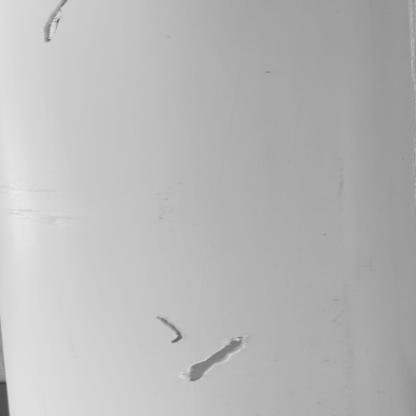fengxi: (185, 333, 249, 382), (42, 1, 68, 45), (157, 314, 186, 343)
